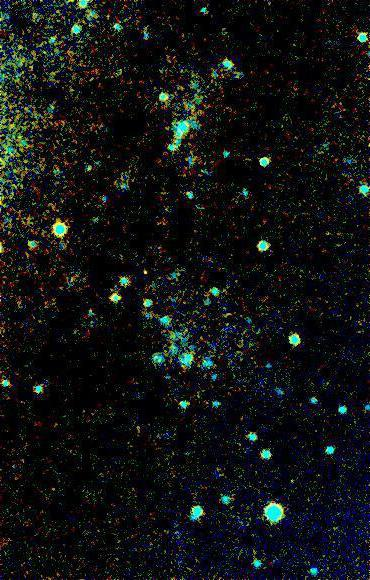star: (129, 257, 159, 287)
